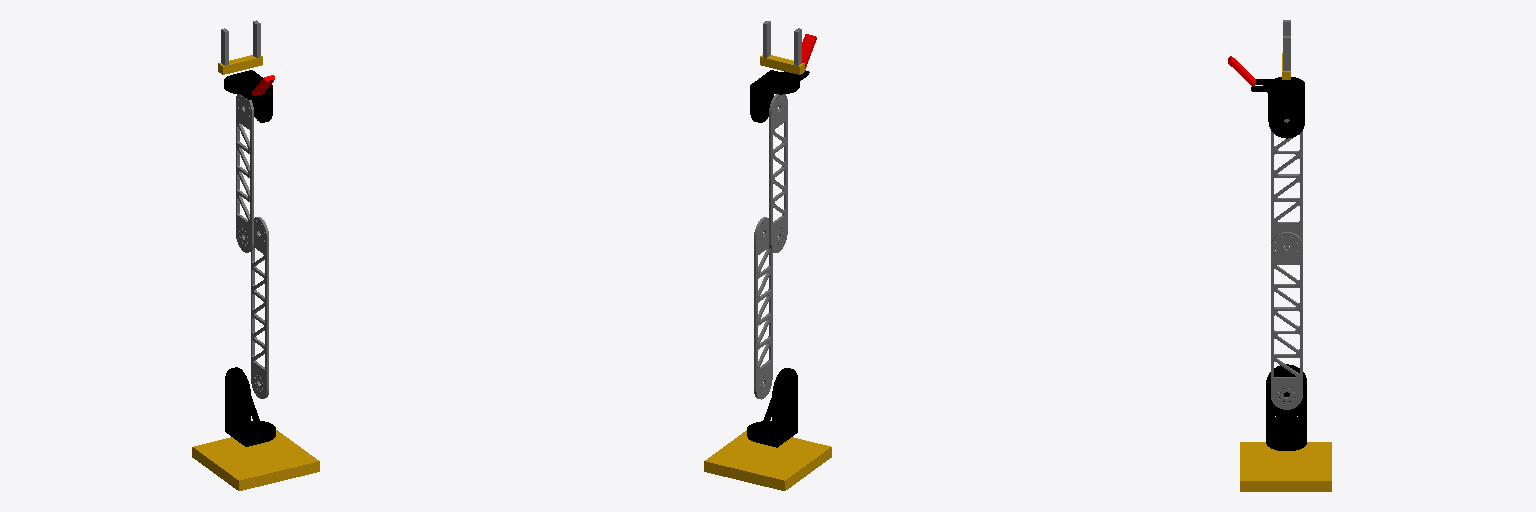
URDF robot description (fivedof):
<?xml version="1.0"?>

<robot name="fivedof">

  <!-- ******************************************************** -->
  <!-- ******************* Kinematic Chain ******************** -->
  <!-- ******************************************************** -->
  <!-- Note the 'origin' tag in the joints defines the shift and
       reorientation, i.e. the transform.  For moving joints, this
       happens before the continuous joint rotates around 'axis'. -->

  <!-- World can't take a visual element (at least in Gazebo). -->
  <link name="world"/>

  <!-- Middle of base plate in x, bottom in z-->
  <joint name="placement" type="fixed">
    <parent link="world"/>
    <child  link="baseplate"/>
    <origin xyz="0.7623 0 0" rpy="0 0 0"/>
    <!-- <origin xyz="0 0 0.0253" rpy="0 0 0"/> -->
  </joint>

  <!-- BASE PLATE: Shift across the base plate to the base motor. --> 
  <link name="baseplate">
    <visual>
      <origin xyz="0 0.1 0.0127" rpy="0 0 0"/> <!--Center of base plate-->
      <geometry>
	      <box size="0.2 0.2 0.0254"/>
      </geometry>
      <material name="wood"/>
    </visual>
  </link>

  <!--From bottom of baseplate to middle of basemotor in y, bottom in z-->
  <joint name="baseplate" type="fixed">
    <parent link="baseplate"/>  <!--Bottom of baseplate-->
    <child  link="basemotor"/>  <!--Bottom of basemotor-->
    <origin xyz="0 0.1016 0.0254" rpy="0 0 0"/> <!--y: offset of center of motor from edge of base plate, z: baseplate thickness-->
  </joint>

  <!-- BASE MOTOR: Thickness: X5 = 31.1mm, X8 = 45.1mm -->
  <link name="basemotor">
    <visual>
      <origin xyz="0 0 0" rpy="0 0 1.5708"/>
      <geometry>
        <mesh filename="package://threedof/meshes/X8.stl"
	      scale="0.001 0.001 0.001"/>
      </geometry>
      <material name="hebi"/>
    </visual>
  </link>

  <joint name="base" type="continuous">
    <parent link="basemotor"/> <!--Bottom of basemotor-->
    <child  link="lbracket"/> <!--Top of basemotor-->
    <origin xyz="0 0 0.0451" rpy="0 0 0"/> <!--z: basemotor thickness-->
    <axis   xyz="0 0 1"/>
  </joint>

  <link name="lbracket">
    <visual>
      <origin xyz="0.04485 -0.04485 0.0" rpy="1.5708 0 3.1415"/>
      <geometry>
        <mesh filename="package://threedof/meshes/basebracket_5dof.stl"
        scale="1.0 1.0 1.0"/>
      </geometry>
      <material name="black"/>
    </visual>
  </link>

  <joint name="lbracket_shoulder" type="fixed">
    <parent link="lbracket"/> <!--Middle of basemotor-->
    <child  link="shouldermotor"/> <!--Front of shouldermotor where table edge is front-->
    <origin xyz="-0.0373 0 0.12025" rpy="0 -1.5708 3.1415"/>	  <!-- L BRACKET DIMENIONS -->
  </joint>

  <!-- TODO: fix origin -->
  <joint name="lbracket_gripper" type="fixed">
    <parent link="lbracket"/>
    <child  link="grippermotor"/>
    <origin xyz="-0.05 0 0.05" rpy="3.1415 -1.5708 -3.1415"/>
  </joint>

  <!-- Gripper motor -->
  <link name="grippermotor">
    <visual>
      <origin xyz="0 0 0" rpy="0 0 0"/>
      <geometry>
        <mesh filename="package://threedof/meshes/X5.stl"
        scale="0.001 0.001 0.001"/>
      </geometry>
      <material name="hebi"/>
    </visual>
  </link>

  <!-- SHOULDER MOTOR: Thickness: X5 = 31.1mm, X8 = 45.1mm -->
  <link name="shouldermotor">
    <visual>
      <origin xyz="0 0 0" rpy="0 0 0"/>
      <geometry>
        <mesh filename="package://threedof/meshes/X8.stl"
	      scale="0.001 0.001 0.001"/>
      </geometry>
      <material name="hebi"/>
    </visual>
  </link>
  

  <joint name="shoulder" type="continuous">
    <parent link="shouldermotor"/> <!--Front of shouldermotor-->
    <child  link="lowerarm"/> <!--Middle of shouldermotor cylinder-->
    <origin xyz="0 0 0.0451" rpy="0 0 0"/>
    <axis   xyz="0 0 1"/>
  </joint>

  <link name="lowerarm">
    <visual>
      <origin xyz="-0.035 0.035 0" rpy="1.5708 0 0"/>
      <geometry>
        <mesh filename="package://threedof/meshes/lowerarm_5dof.stl"
	      scale="1.0 1.0 1.0"/>
      </geometry>
      <material name="alum"/>
    </visual>
  </link>

  <joint name="lowerarm" type="fixed">
    <parent link="lowerarm"/>
    <child  link="elbowmotor"/>
    <origin xyz="0.3556 0 0" rpy="3.1415 0 0"/>
  </joint>

  <!-- Elbow motor.  Thickness: X5 = 31.1mm, X8 = 45.1mm -->
  <link name="elbowmotor">
    <visual>
      <geometry>
        <mesh filename="package://threedof/meshes/X5.stl"
	      scale="0.001 0.001 0.001"/>
      </geometry>
      <material name="hebi"/>
    </visual>
  </link>

  <joint name="elbow" type="continuous">
    <parent link="elbowmotor"/>
    <child  link="upperarm"/>
    <origin xyz="0 0 0.0311" rpy="0 0 0"/>
    <axis   xyz="0 0 1"/>
  </joint>

  <link name="upperarm">
    <visual>
      <origin xyz="-0.035 0.035 0.0" rpy="1.5708 0.0 0.0"/>
      <geometry>
        <mesh filename="package://threedof/meshes/upperarm_5dof.stl"
	      scale="1.0 1.0 1.0"/>
      </geometry>
      <material name="alum"/>
    </visual>
  </link>

  <joint name="upperarm" type="fixed">
    <parent link="upperarm"/>
    <child  link="wrist_tilt_motor"/>
    <origin xyz="0.3048 0 0" rpy="3.1415 0 0"/>
    <axis   xyz="0 0 1"/>
  </joint>

  <link name="wrist_tilt_motor">
    <visual>
      <geometry>
        <mesh filename="package://threedof/meshes/X5.stl"
        scale="0.001 0.001 0.001"/>
      </geometry>
      <material name="hebi"/>
    </visual>
  </link>

  <joint name="wrist_tilt" type="continuous">
    <parent link="wrist_tilt_motor"/>
    <child  link="wrist_bracket"/>
    <origin xyz="0 0 0.0438" rpy="0 0 0"/>
    <axis   xyz="0 0 1"/>
  </joint>

  <link name="wrist_bracket">
    <visual>
      <origin xyz="0.0654 -0.04 0.0" rpy="0 1.5708 1.5708"/>
      <geometry>
        <mesh filename="package://threedof/meshes/wrist_5dof.stl"
        scale="1.0 1.0 1.0"/>
      </geometry>
      <material name="black"/>
    </visual>
  </link>

  <joint name="wrist_bracket" type="fixed">
    <parent link="wrist_bracket"/>
    <child  link="wrist_roll_motor"/> 
    <origin xyz="0.0654 0 -0.0572" rpy="0 1.5708 0"/>
  </joint>

  <link name="wrist_roll_motor">
    <visual>
      <geometry>
        <mesh filename="package://threedof/meshes/X5.stl"
        scale="0.001 0.001 0.001"/>
      </geometry>
      <material name="hebi"/>
    </visual>
  </link>

  <joint name="camera_mount" type="fixed">
    <parent link="wrist_bracket"/>
    <child  link="camera_mount"/>
    <!--Above the roll motor. 
    About 45 degrees from ground (45 deg from pointing up -> -0.78 rad). 
    NOTE: x-axis must point in direction of camera
    NOTE: although camera angled at 45, offset needed to correct error-->
    <!-- <origin xyz="0.0654 0.07 -0.0572" rpy="0 0 -0.85"/> -->
    <origin xyz="0.0654 0.07 -0.0572" rpy="0 0 -0.82"/>
  </joint>

  <!--From bottom of hinge to depth camera is ~0.08m-->
  <link name="camera_mount">
    <visual>
      <origin xyz="0 0.04 0" rpy="0 0 0"/>
      <geometry>
        <box size="0.01 0.080 0.025"/>
      </geometry>
      <material name="red"/>
    </visual>
  </link>

  <!--Blue calibration dot on camera mount bracket, 0.105m along mount y-axis-->
  <joint name="blue_mark_joint" type="fixed">
    <parent link="camera_mount"/>
    <child  link="blue_mark"/>
    <origin xyz="0 0.105 0" rpy="0 0 0"/>
  </joint>

  <link name="blue_mark"></link>

  <!--Camera is pushed a bit toward ground (0.025, camera width)-->
  <joint name="camera_link" type="fixed">
    <parent link="camera_mount"/>
    <child  link="camera_link"/>
    <origin xyz="0.025 0.08 0" rpy="0 0 0"/>
  </joint>

  <link name="camera_link"></link>

  <!--Optical frame: RealSense PointCloud2 data uses Z-forward, X-right, Y-down.
      This rotation converts from link convention (X-forward) to optical convention.
      Used by the camera FK chain (world → camera_optical_frame) in WorldMap integration.-->
  <joint name="camera_optical_frame" type="fixed">
    <parent link="camera_link"/>
    <child  link="camera_optical_frame"/>
    <origin xyz="0 0 0" rpy="-1.5707963 0 -1.5707963"/>
  </joint>

  <link name="camera_optical_frame"></link>

  <joint name="wrist_roll" type="continuous">
    <parent link="wrist_roll_motor"/>
    <child  link="gripper_base"/> 
    <origin xyz="0 0 0.0311" rpy="0 0 0"/> 
    <axis   xyz="0 0 1"/>
  </joint>

  <!--Model gripper as 2 prismatic fingers that move diagonally-->
  <link name="gripper_base">
    <visual>
      <origin xyz="0 0 0.01" rpy="0 0 0"/>
      <geometry>
        <box size="0.10 0.02 0.02"/> 
      </geometry>
      <material name="wood"/>
    </visual>
    <collision>
      <origin xyz="0 0 0.01" rpy="0 0 0"/>
      <geometry>
        <box size="0.10 0.02 0.02"/>
      </geometry>
    </collision>
  </link>

  <joint name="gripper" type="prismatic">
    <parent link="gripper_base"/>
    <child  link="finger_left"/>
    <!--Max opening distance is approx 2 blocks (2 * 1.34in = 0.0682m) -> Each finger is 0.0682/2m + finger thickness (0.005m) = 0.0391 from center of gripper-->
    <origin xyz="-0.0391 0 0.02" rpy="0 0 0"/> 
    <!--Move diagonally in x and z (ratios computed by estimates in motion: x = 0.0341m, y ~= 0.035m); axis vector normalized-->
    <axis   xyz="0.698 0 0.716"/> 
    <!--sqrt(0.0341^2 + 0.035^2) = 0.0489-->
    <limit lower="0.0" upper="0.0489" effort="10" velocity="0.5"/>
  </joint>

  <joint name="gripper_clone" type="prismatic">
    <parent link="gripper_base"/>
    <child  link="finger_right"/>
    <origin xyz="0.0391 0 0.02" rpy="0 0 0"/> 
    <axis   xyz="0.698 0 -0.716"/> 
    <limit lower="-0.0489" upper="0.0" effort="10" velocity="0.5"/>
    <mimic joint="gripper" multiplier="-1" offset="0"/>
  </joint>

  <!--Total gripper length = 0.09m (when laying) and 0.1m (when gripper pointing down), and fingers start from base (0.02m in thickness)-->
  <link name="finger_left">
    <visual>
      <origin xyz="0 0 0.04" rpy="0 0 0"/>
      <geometry>
        <box size="0.01 0.0178 0.08"/> 
      </geometry>
      <material name="alum"/>
    </visual>
    <collision>
      <origin xyz="0 0 0.04" rpy="0 0 0"/>
      <geometry>
        <box size="0.01 0.0178 0.08"/>
      </geometry>
    </collision>
  </link>

  <link name="finger_right">
    <visual>
      <origin xyz="0 0 0.04" rpy="0 0 0"/>
      <geometry>
        <box size="0.01 0.0178 0.08"/>
      </geometry>
      <material name="alum"/>
    </visual>
    <collision>
      <origin xyz="0 0 0.04" rpy="0 0 0"/>
      <geometry>
        <box size="0.01 0.0178 0.08"/>
      </geometry>
    </collision>
  </link>

  <joint name="tip_slide" type="prismatic">
    <parent link="gripper_base"/>
    <child  link="tip"/>
    <origin xyz="0 0 0.1" rpy="0 0 0"/> 
    <axis   xyz="0 0 1"/> 
    <mimic joint="gripper" multiplier="0.716" offset="0"/>
    <limit lower="0.0" upper="0.035" effort="10" velocity="0.5"/>
  </joint>

  <link name="tip"/>

  <!-- *************************************************** -->
  <!-- *************** Visual Link Elements ************** -->
  <!-- *************************************************** -->
  <!-- Note collada .dae files are preferred over .stl as  -->
  <!-- they specify and provide color/texture support.    -->

  <!-- Colors -->
  <material name="wood">  <color rgba="0.82 0.62 0.04 1"/>  </material>
  <material name="hebi">  <color rgba="0.82 0.06 0.06 1"/>  </material>
  <material name="alum">  <color rgba="0.5 0.5 0.5 1"/>  </material>
  <material name="black">  <color rgba="0 0 0 1"/>  </material>
  <material name="red">  <color rgba="1 0 0 1"/>  </material>
  

</robot>

--- Render facts (derived) ---
The picture shows the robot from 3 angles, left to right: view 1: azimuth 30°, elevation 25°; view 2: azimuth 150°, elevation 25°; view 3: azimuth 270°, elevation 25°; orthographic projection.
Robot: fivedof — 20 links, 19 joints (5 continuous, 3 prismatic, 11 fixed); root link world; default pose: all joints at 0.
Visible links, largest first — view 1: baseplate, lbracket, lowerarm, upperarm, wrist_bracket; view 2: baseplate, lowerarm, lbracket, upperarm, wrist_bracket; view 3: baseplate, lowerarm, lbracket, wrist_bracket, upperarm.
Boxes of the visible links, x1,y1,x2,y2 form: baseplate: (192,430,319,490); lbracket: (225,367,275,446); lowerarm: (251,217,268,398); upperarm: (236,94,253,252); wrist_bracket: (224,70,272,122); baseplate: (704,430,831,490); lowerarm: (754,217,772,399); lbracket: (747,368,797,447); upperarm: (769,94,787,252); wrist_bracket: (750,70,809,122); baseplate: (1240,442,1331,491); lowerarm: (1271,232,1302,409); lbracket: (1266,364,1306,450); wrist_bracket: (1251,77,1304,138); upperarm: (1271,119,1302,250).
Size in the robot's own frame: 0.2 by 0.2266 by 1.05 metres.
Meshes: 6 distinct files referenced, 4 mesh visuals loaded (3 binary STL, 1 ASCII STL); not drawn: 6 (file found but could not be loaded).
